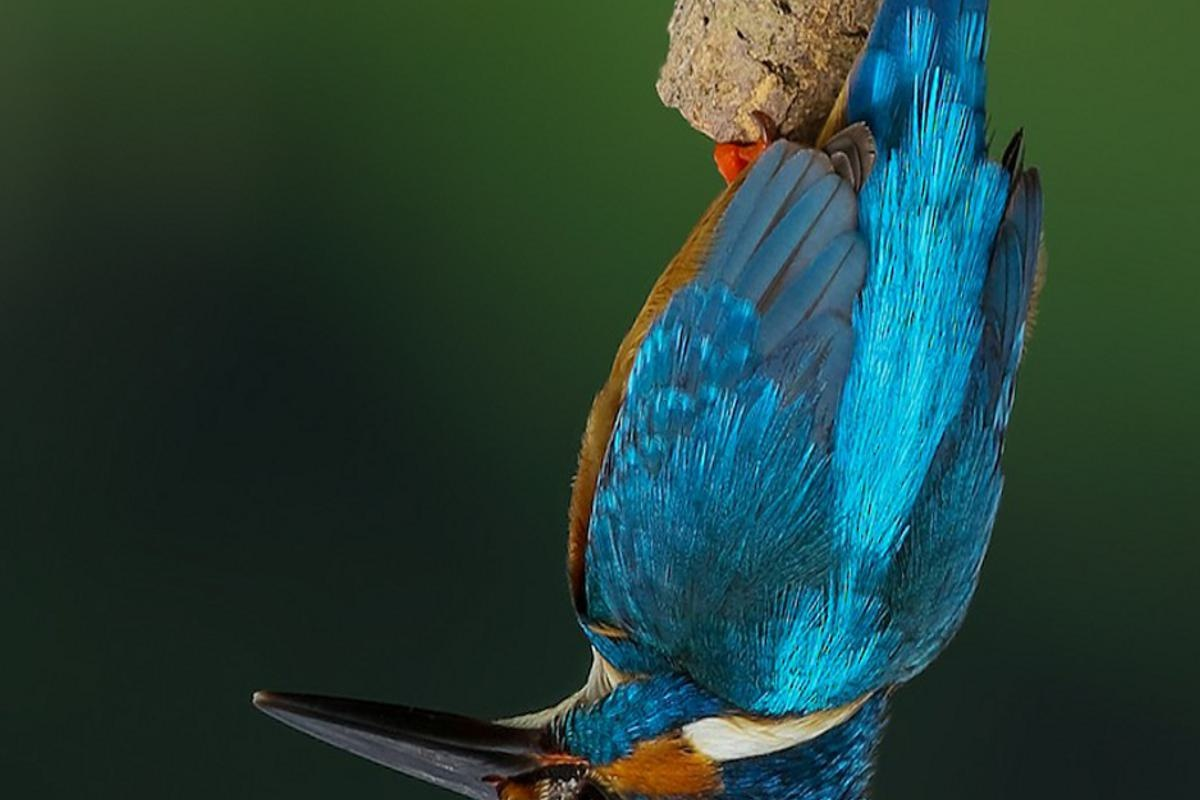kingfisher: (245, 1, 1041, 793)
